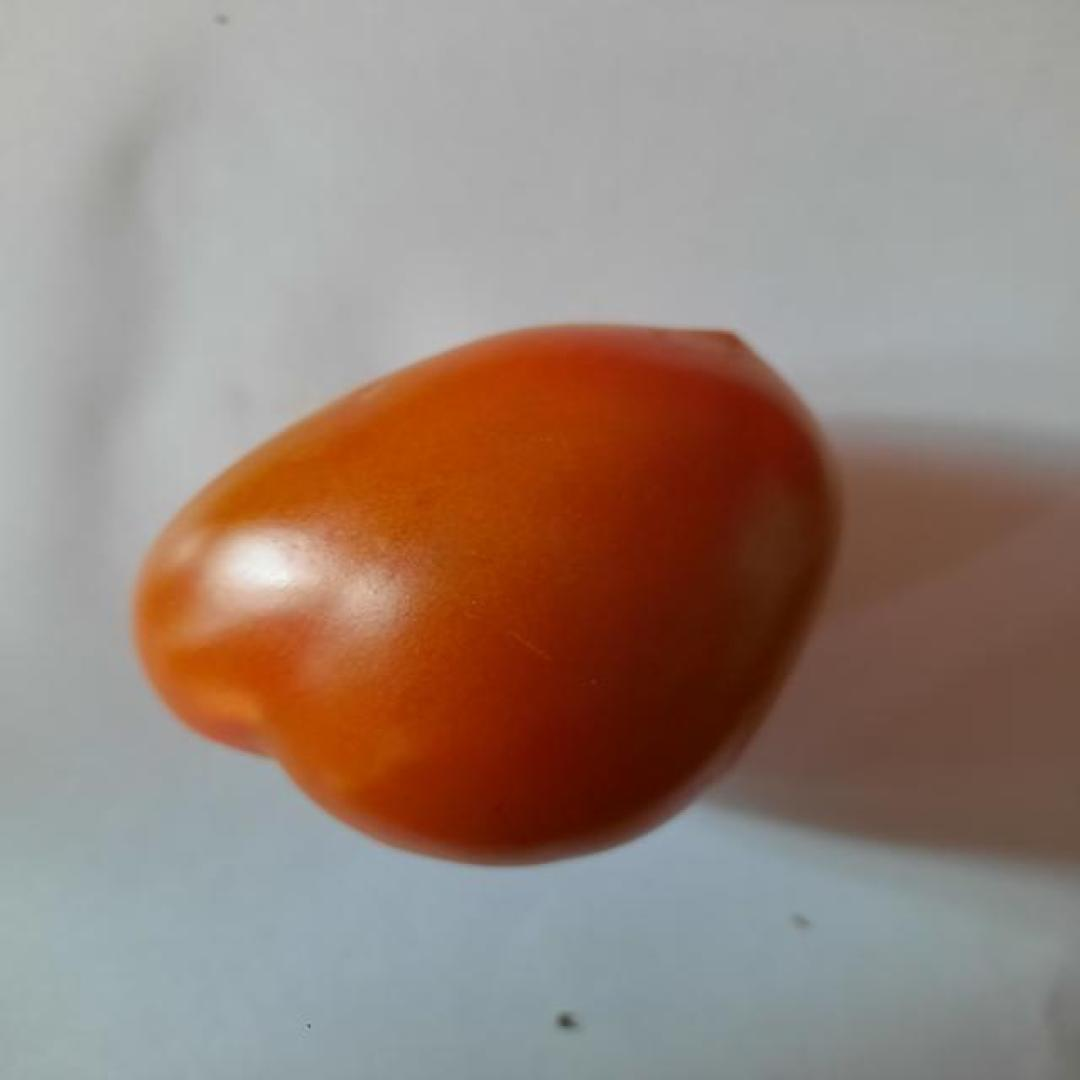matang: (132, 320, 846, 872)
